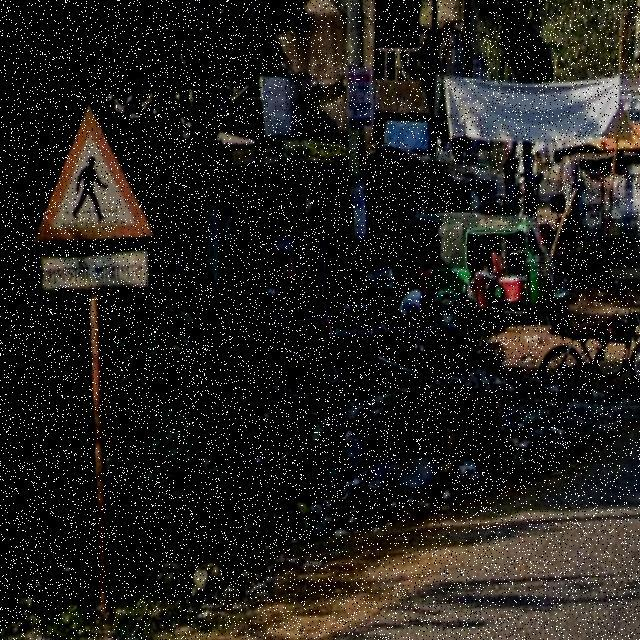Pedestrian-crossing: (36, 112, 157, 312)
